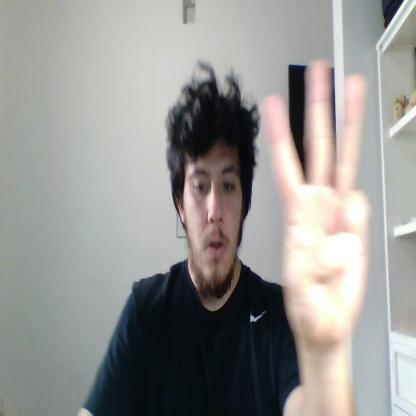W: (262, 59, 372, 341)
